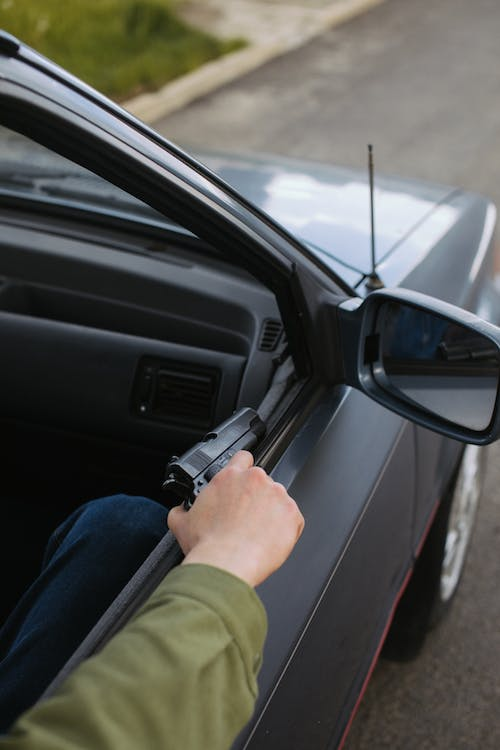gun: (161, 403, 270, 514)
